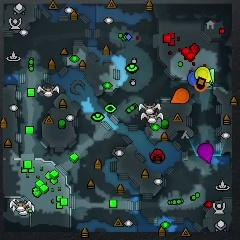p1: (187, 71, 197, 87)
p2: (207, 68, 215, 87)
p3: (198, 143, 214, 163)
p4: (195, 67, 212, 84)
p5: (171, 87, 189, 104)
p5Clone: (194, 82, 208, 92)
